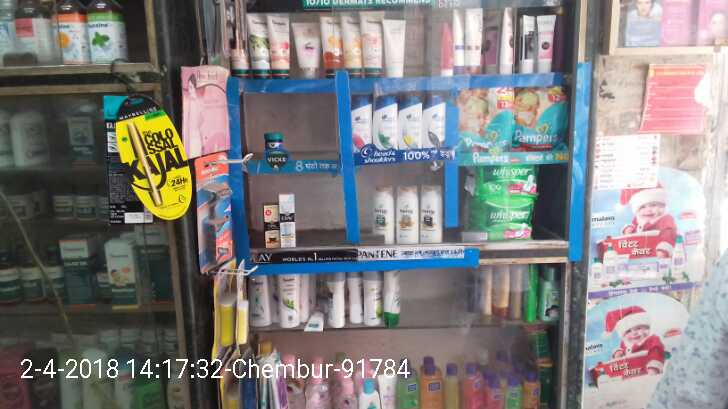vicks: (261, 131, 285, 157)
